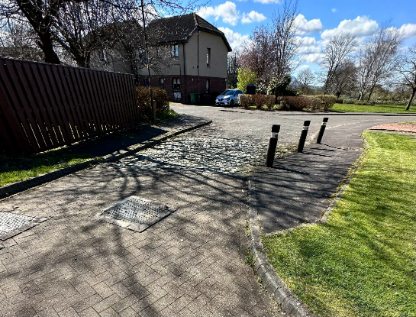car: (215, 85, 244, 106)
tree: (237, 13, 298, 86), (356, 29, 399, 101), (316, 27, 346, 93)
